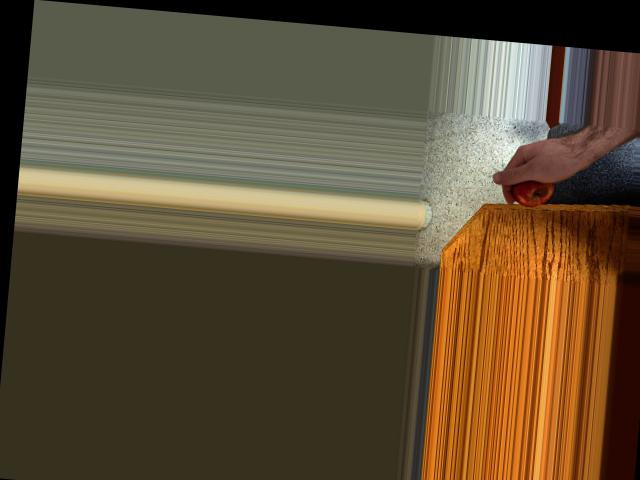apple: (507, 169, 556, 210)
